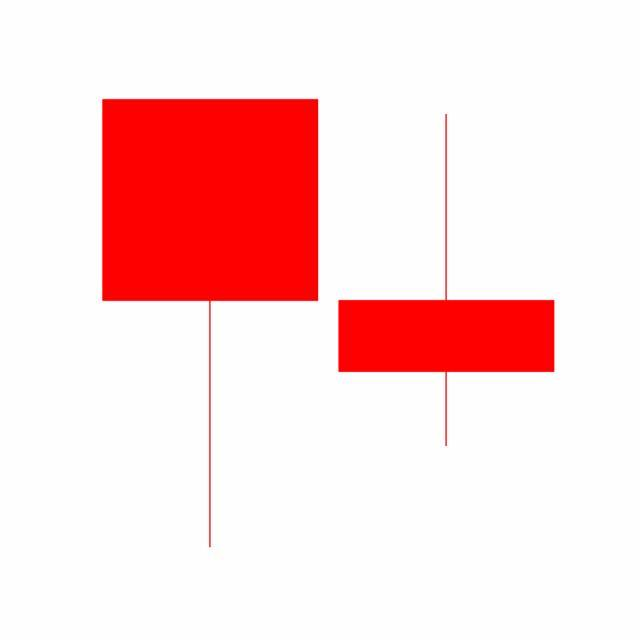Spinning Top: (328, 110, 566, 451)
